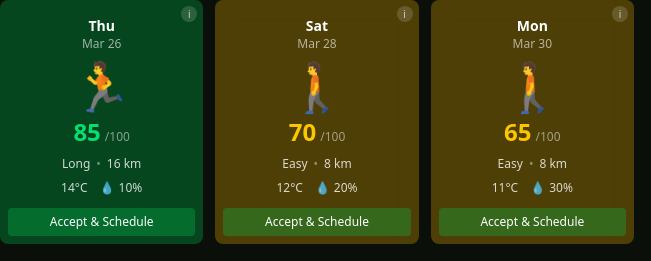
Test: RunSuggestions › accept functionality › shows error message on duplicate date conflict
Click the button with test id "accept-button" at coordinates (102, 222), box [8,208,195,236]
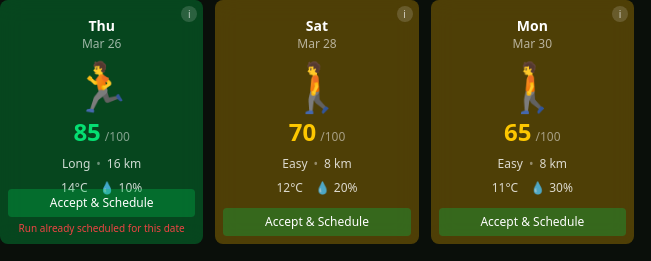
Expected: the text "Run already scheduled for this date" is shown, [19,221,185,236]
Expected: the text with test id "accept-error" reads "Run already scheduled for this date", [19,221,185,235]
